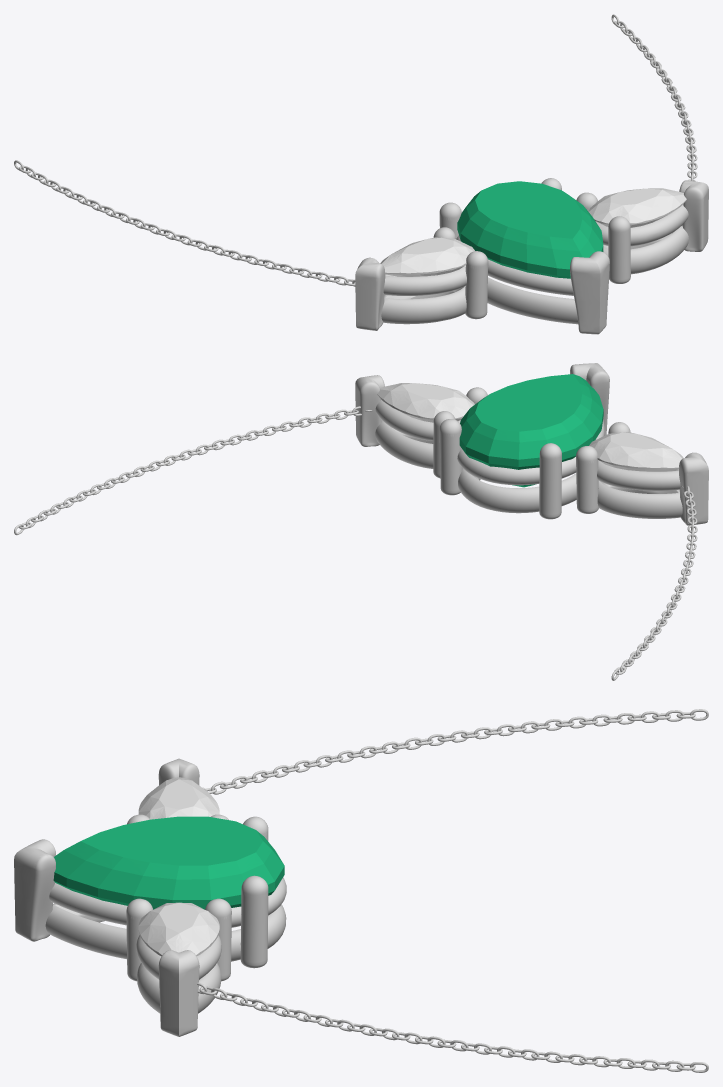
The model's file is DanPendantPTnew.glb.
The picture shows the model from 3 angles, top to bottom: view 1: azimuth 30°, elevation 25°; view 2: azimuth 150°, elevation 25°; view 3: azimuth 270°, elevation 25°; orthographic projection. The views are drawn at different scales.
Parts seen in each view (by area): view 1: Dan PT for 3d model, Dan tourmaline for 3d model, Dan dia for 3d model.001, Dan dia for 3d model; view 2: Dan PT for 3d model, Dan tourmaline for 3d model, Dan dia for 3d model.001, Dan dia for 3d model; view 3: Dan PT for 3d model, Dan tourmaline for 3d model, Dan dia for 3d model, Dan dia for 3d model.001.
Part boxes in pixels (x1,y1,x2,y2): Dan PT for 3d model: [14, 14, 708, 334]; Dan tourmaline for 3d model: [457, 181, 603, 278]; Dan dia for 3d model.001: [380, 237, 474, 276]; Dan dia for 3d model: [588, 188, 686, 227]; Dan PT for 3d model: [14, 363, 708, 680]; Dan tourmaline for 3d model: [459, 374, 603, 487]; Dan dia for 3d model.001: [589, 432, 683, 471]; Dan dia for 3d model: [377, 383, 474, 422]; Dan PT for 3d model: [14, 709, 708, 1072]; Dan tourmaline for 3d model: [53, 816, 284, 909]; Dan dia for 3d model: [138, 902, 219, 956]; Dan dia for 3d model.001: [138, 777, 219, 819].
Bounding box in the file's own units: 31.19 × 3.86 × 25.68.
